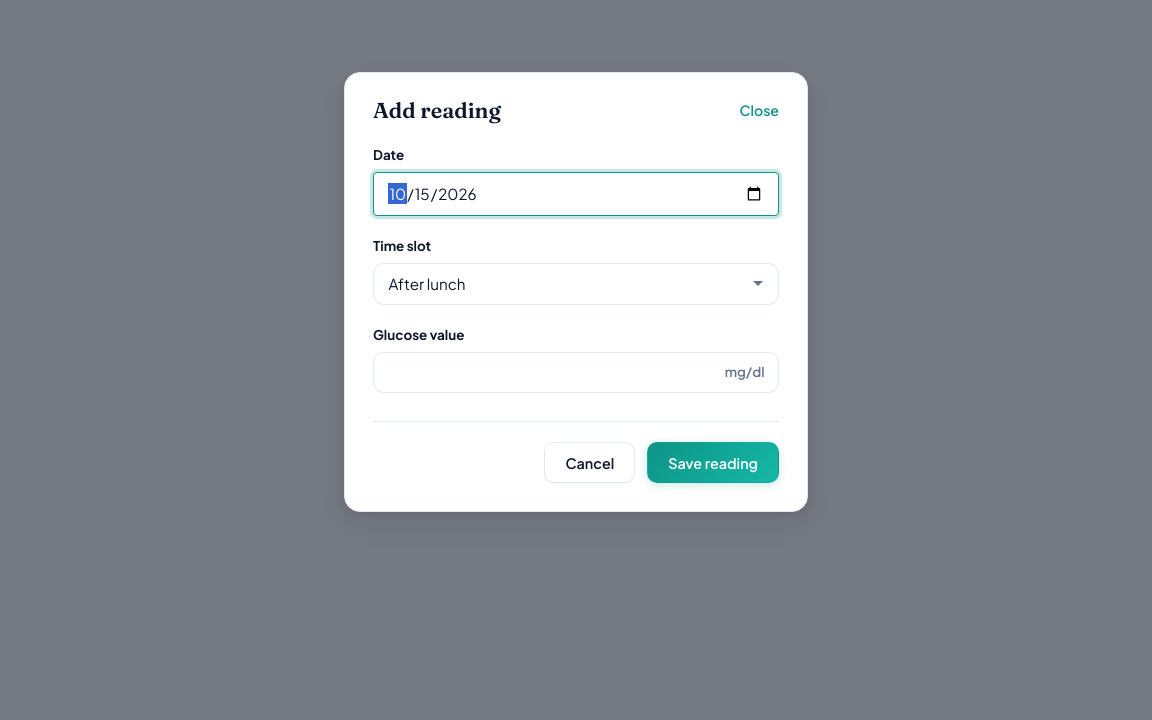
Test: ReadingForm submit › shows the server's duplicate-slot message next to the time slot
Type "120" into the number field labelled "Glucose value" at [576, 372], box [373,352,779,393]
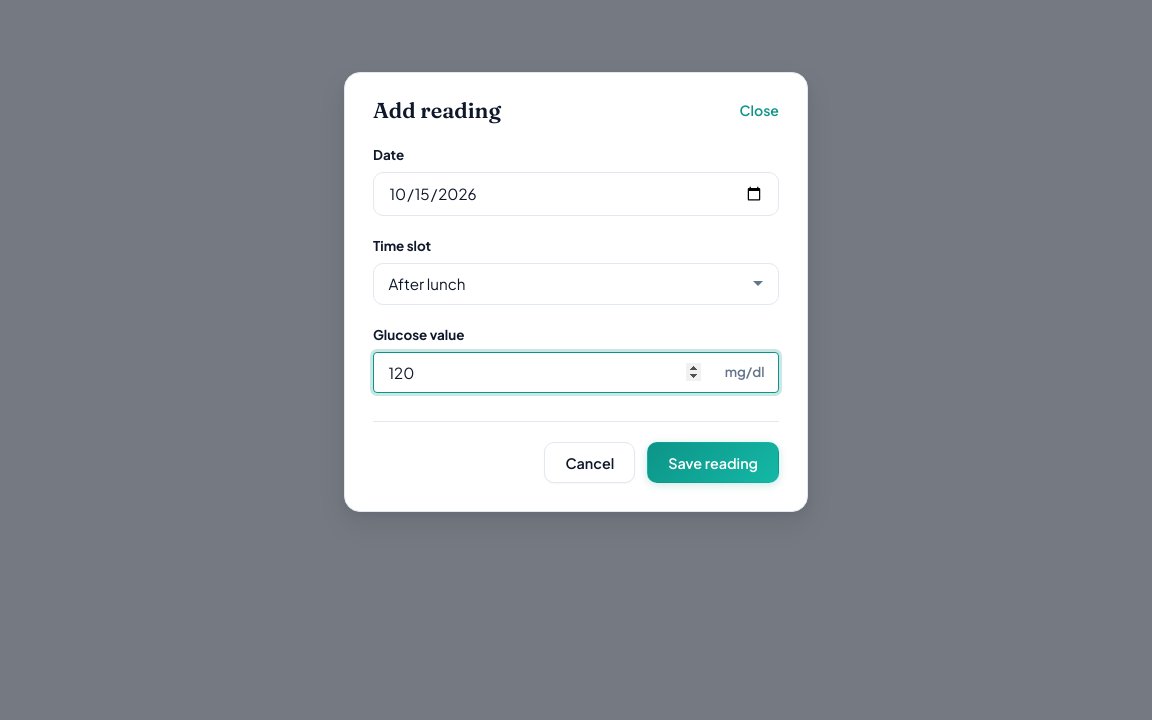
Click the button "Save reading" at [713, 463], box [647,442,779,483]
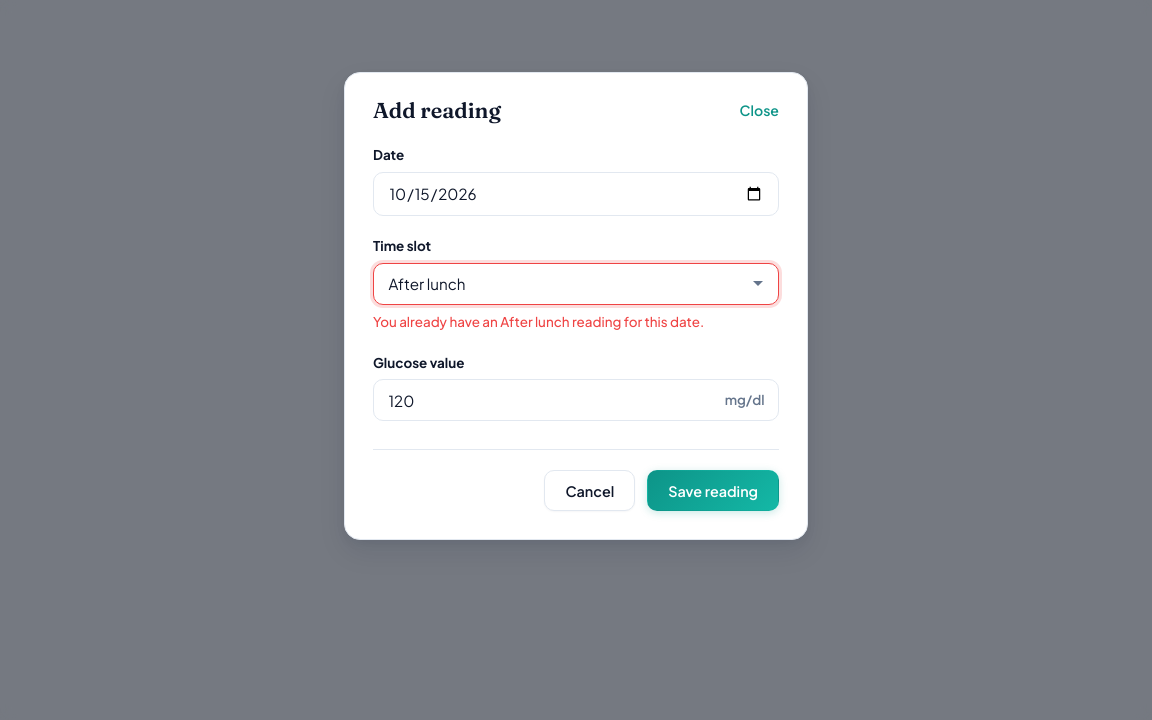
Expected: the text "You already have an After lunch reading for this date." is shown, [373,313,704,330]
